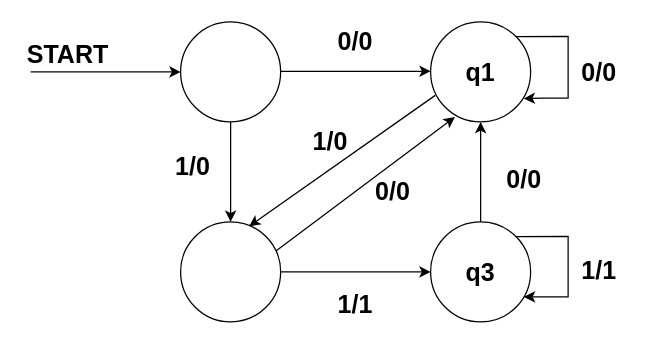
The diagram is 659 pixels wide and 344 high, and some of its shapes have lost their labels. The shapes that lost their labels are listed below. From the top down, each one's box as (x1, y1, x2, y2) in pixels, then its label:
(179, 21, 281, 122): q0
(179, 221, 281, 322): q2
